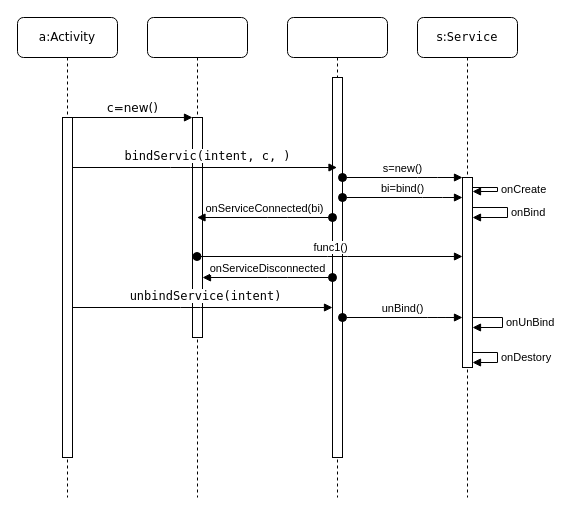
The diagram is 572 pixels wide and 515 high, and some of its shapes have lost their labels. Here are the shapes that lost their labels. From the top down, the centre of each, then its label:
At (197,257): "c: Service Connection".
At (337,257): ":Context".
